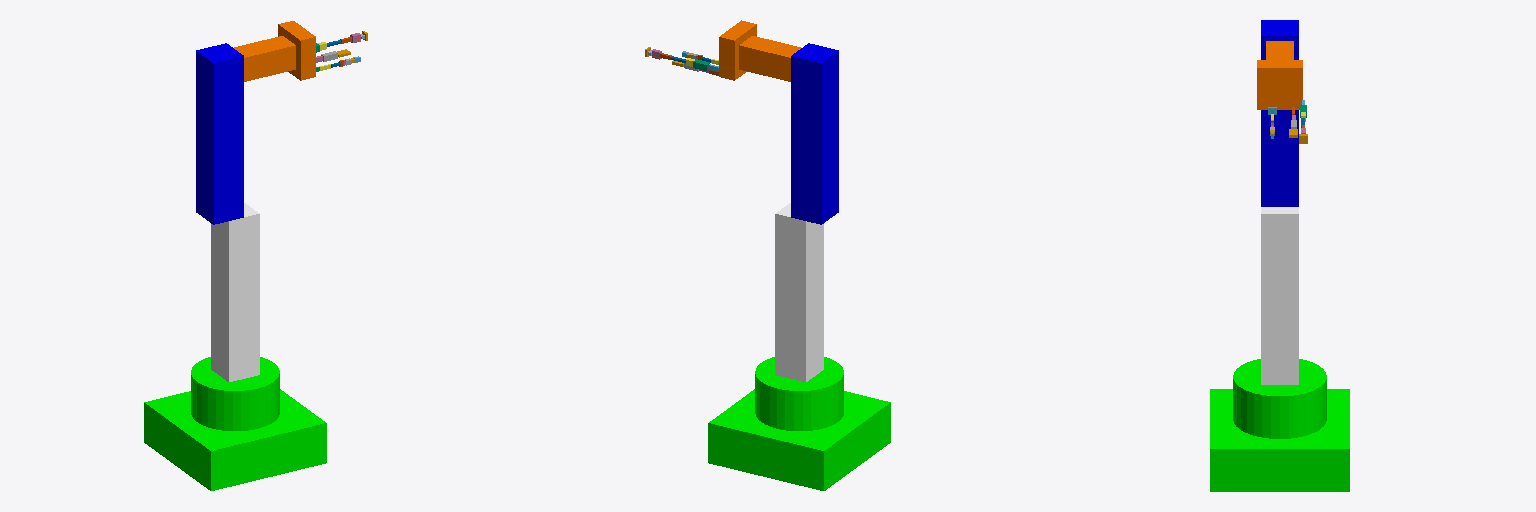
URDF robot description (robot):
<?xml version='1.0' encoding='utf-8'?>
<robot name="robot">
  <link name="base_link">
    <visual>
      <origin xyz="0 0 0.125" rpy="0 0 0" />
      <geometry>
        <box size="0.75 0.75 0.25" />
      </geometry>
      <material name="green" />
    </visual>
    <visual>
      <origin xyz="0 0 0.375" rpy="0 0 0" />
      <geometry>
        <cylinder length="0.25" radius="0.25" />
      </geometry>
      <material name="green">
        <color rgba="0 1 0 1" />
      </material>
    </visual>
    <collision>
      <geometry>
        <box size="0.75 0.75 0.5" />
      </geometry>
    </collision>
    <inertial>
      <mass value="0.5" />
      <inertia ixx="0.034" ixy="0.0" ixz="0.0" iyy="0.034" iyz="0.0" izz="0.034" />
    </inertial>
  </link>
  <link name="support_link">
    <visual>
      <origin xyz="0 0 0.5" rpy="0 0 0" />
      <geometry>
        <box size="0.2 0.2 1" />
      </geometry>
      <material name="white">
        <color rgba="1 1 1 1" />
      </material>
    </visual>
    <collision>
      <geometry>
        <box size="0.2 0.2 1" />
      </geometry>
    </collision>
    <inertial>
      <mass value="0.1" />
      <inertia ixx="0.01" ixy="0.0" ixz="0.0" iyy="0.01" iyz="0.0" izz="0.01" />
    </inertial>
  </link>
  <joint name="support_joint" type="continuous">
    <origin xyz="0 0 0.5" rpy="0 0 0" />
    <parent link="base_link" />
    <child link="support_link" />
    <axis xyz="0 0 1" />
  </joint>
  <link name="arm_link">
    <visual>
      <origin xyz="0 0 0.5" rpy="0 0 0" />
      <geometry>
        <box size="0.2 0.2 1" />
      </geometry>
      <material name="blue">
        <color rgba="0 0 1 1" />
      </material>
    </visual>
    <collision>
      <geometry>
        <box size="0.2 0.2 1" />
      </geometry>
    </collision>
    <inertial>
      <mass value="0.1" />
      <inertia ixx="0.01" ixy="0.0" ixz="0.0" iyy="0.01" iyz="0.0" izz="0.01" />
    </inertial>
  </link>
  <joint name="arm_joint" type="revolute">
    <origin xyz="-0.1 0 1" rpy="0 0 0" />
    <parent link="support_link" />
    <child link="arm_link" />
    <axis xyz="0 1 0" />
    <limit lower="-3.14" upper="3.14" effort="1.0" velocity="1.0" />
  </joint>
  <link name="wrist_link">
    <visual>
      <origin xyz="0 0 0.25" rpy="0 0 0" />
      <geometry>
        <box size="0.15 0.15 0.5" />
      </geometry>
      <material name="orange">
        <color rgba="1 0.5 0 1" />
      </material>
    </visual>
    <collision>
      <geometry>
        <box size="0.15 0.15 0.5" />
      </geometry>
    </collision>
    <inertial>
      <mass value="0.1" />
      <inertia ixx="0.01" ixy="0.0" ixz="0.0" iyy="0.01" iyz="0.0" izz="0.01" />
    </inertial>
  </link>
  <joint name="wrist_joint" type="fixed">
    <origin xyz="0 0 0.9" rpy="0 1.571 0" />
    <parent link="arm_link" />
    <child link="wrist_link" />
  </joint>
  <link name="palm_link">
    <visual>
      <origin xyz="0 0 0.05" rpy="0 0 0" />
      <geometry>
        <box size="0.25 0.25 0.1" />
      </geometry>
      <material name="orange" />
    </visual>
    <collision>
      <geometry>
        <box size="0.25 0.25 0.1" />
      </geometry>
    </collision>
    <inertial>
      <mass value="0.1" />
      <inertia ixx="0.01" ixy="0.0" ixz="0.0" iyy="0.01" iyz="0.0" izz="0.01" />
    </inertial>
  </link>
  <joint name="palm_joint" type="fixed">
    <origin xyz="0 0 0.45" rpy="0 0 0" />
    <parent link="wrist_link" />
    <child link="palm_link" />
  </joint>
  <link name="finger_link_0_0">
    <visual>
      <origin xyz="0 0 0.0445" rpy="0 0 0" />
      <geometry>
        <box size="0.038 0.016 0.089" />
      </geometry>
    </visual>
    <collision>
      <geometry>
        <box size="0.038 0.016 0.089" />
      </geometry>
    </collision>
    <inertial>
      <mass value="0.016" />
      <inertia ixx="0.0" iyy="0.0" izz="0.0" ixy="0" ixz="0" iyz="0" />
    </inertial>
  </link>
  <joint name="finger_joint_palm_link_to_finger_link_0_0" type="revolute">
    <origin xyz="0.125 0.073 0.1" rpy="0 0 0" />
    <parent link="palm_link" />
    <child link="finger_link_0_0" />
    <axis xyz="0.0 1.0 0.0" />
    <limit lower="-3.142" upper="3.142" effort="10" velocity="10" />
  </joint>
  <link name="finger_link_0_1">
    <visual>
      <origin xyz="0 0 0.034" rpy="0 0 0" />
      <geometry>
        <box size="0.027 0.02 0.068" />
      </geometry>
    </visual>
    <collision>
      <geometry>
        <box size="0.027 0.02 0.068" />
      </geometry>
    </collision>
    <inertial>
      <mass value="0.011" />
      <inertia ixx="0.0" iyy="0.0" izz="0.0" ixy="0" ixz="0" iyz="0" />
    </inertial>
  </link>
  <joint name="finger_joint_finger_link_0_0_to_finger_link_0_1" type="revolute">
    <origin xyz="0.0 0.0 0.089" rpy="0 0 0" />
    <parent link="finger_link_0_0" />
    <child link="finger_link_0_1" />
    <axis xyz="0.0 1.0 0.0" />
    <limit lower="-3.142" upper="3.142" effort="10" velocity="10" />
  </joint>
  <link name="finger_link_0_2">
    <visual>
      <origin xyz="0 0 0.0465" rpy="0 0 0" />
      <geometry>
        <box size="0.036 0.032 0.093" />
      </geometry>
    </visual>
    <collision>
      <geometry>
        <box size="0.036 0.032 0.093" />
      </geometry>
    </collision>
    <inertial>
      <mass value="0.032" />
      <inertia ixx="0.0" iyy="0.0" izz="0.0" ixy="0" ixz="0" iyz="0" />
    </inertial>
  </link>
  <joint name="finger_joint_finger_link_0_1_to_finger_link_0_2" type="revolute">
    <origin xyz="0.0 0.0 0.068" rpy="0 0 0" />
    <parent link="finger_link_0_1" />
    <child link="finger_link_0_2" />
    <axis xyz="1.0 0.0 0.0" />
    <limit lower="-3.142" upper="3.142" effort="10" velocity="10" />
  </joint>
  <link name="finger_link_0_3">
    <visual>
      <origin xyz="0 0 0.0375" rpy="0 0 0" />
      <geometry>
        <box size="0.016 0.048 0.075" />
      </geometry>
    </visual>
    <collision>
      <geometry>
        <box size="0.016 0.048 0.075" />
      </geometry>
    </collision>
    <inertial>
      <mass value="0.017" />
      <inertia ixx="0.0" iyy="0.0" izz="0.0" ixy="0" ixz="0" iyz="0" />
    </inertial>
  </link>
  <joint name="finger_joint_finger_link_0_2_to_finger_link_0_3" type="revolute">
    <origin xyz="0.0 0.0 0.093" rpy="0 0 0" />
    <parent link="finger_link_0_2" />
    <child link="finger_link_0_3" />
    <axis xyz="0.0 1.0 0.0" />
    <limit lower="-3.142" upper="3.142" effort="10" velocity="10" />
  </joint>
  <link name="finger_link_1_0">
    <visual>
      <origin xyz="0 0 0.0345" rpy="0 0 0" />
      <geometry>
        <box size="0.029 0.014 0.069" />
      </geometry>
    </visual>
    <collision>
      <geometry>
        <box size="0.029 0.014 0.069" />
      </geometry>
    </collision>
    <inertial>
      <mass value="0.008" />
      <inertia ixx="0.0" iyy="0.0" izz="0.0" ixy="0" ixz="0" iyz="0" />
    </inertial>
  </link>
  <joint name="finger_joint_palm_link_to_finger_link_1_0" type="revolute">
    <origin xyz="0.078 0.125 0.1" rpy="0 0 0" />
    <parent link="palm_link" />
    <child link="finger_link_1_0" />
    <axis xyz="-1.0 0.0 0.0" />
    <limit lower="-3.142" upper="3.142" effort="10" velocity="10" />
  </joint>
  <link name="finger_link_1_1">
    <visual>
      <origin xyz="0 0 0.045" rpy="0 0 0" />
      <geometry>
        <box size="0.039 0.04 0.09" />
      </geometry>
    </visual>
    <collision>
      <geometry>
        <box size="0.039 0.04 0.09" />
      </geometry>
    </collision>
    <inertial>
      <mass value="0.042" />
      <inertia ixx="0.0" iyy="0.0" izz="0.0" ixy="0" ixz="0" iyz="0" />
    </inertial>
  </link>
  <joint name="finger_joint_finger_link_1_0_to_finger_link_1_1" type="revolute">
    <origin xyz="0.0 0.0 0.069" rpy="0 0 0" />
    <parent link="finger_link_1_0" />
    <child link="finger_link_1_1" />
    <axis xyz="1.0 0.0 0.0" />
    <limit lower="-3.142" upper="3.142" effort="10" velocity="10" />
  </joint>
  <link name="finger_link_1_2">
    <visual>
      <origin xyz="0 0 0.025" rpy="0 0 0" />
      <geometry>
        <box size="0.036 0.027 0.05" />
      </geometry>
    </visual>
    <collision>
      <geometry>
        <box size="0.036 0.027 0.05" />
      </geometry>
    </collision>
    <inertial>
      <mass value="0.015" />
      <inertia ixx="0.0" iyy="0.0" izz="0.0" ixy="0" ixz="0" iyz="0" />
    </inertial>
  </link>
  <joint name="finger_joint_finger_link_1_1_to_finger_link_1_2" type="revolute">
    <origin xyz="0.0 0.0 0.09" rpy="0 0 0" />
    <parent link="finger_link_1_1" />
    <child link="finger_link_1_2" />
    <axis xyz="0.0 1.0 0.0" />
    <limit lower="-3.142" upper="3.142" effort="10" velocity="10" />
  </joint>
  <link name="finger_link_1_3">
    <visual>
      <origin xyz="0 0 0.0495" rpy="0 0 0" />
      <geometry>
        <box size="0.014 0.021 0.099" />
      </geometry>
    </visual>
    <collision>
      <geometry>
        <box size="0.014 0.021 0.099" />
      </geometry>
    </collision>
    <inertial>
      <mass value="0.009" />
      <inertia ixx="0.0" iyy="0.0" izz="0.0" ixy="0" ixz="0" iyz="0" />
    </inertial>
  </link>
  <joint name="finger_joint_finger_link_1_2_to_finger_link_1_3" type="revolute">
    <origin xyz="0.0 0.0 0.05" rpy="0 0 0" />
    <parent link="finger_link_1_2" />
    <child link="finger_link_1_3" />
    <axis xyz="0.0 1.0 0.0" />
    <limit lower="-3.142" upper="3.142" effort="10" velocity="10" />
  </joint>
  <link name="finger_link_1_4">
    <visual>
      <origin xyz="0 0 0.034" rpy="0 0 0" />
      <geometry>
        <box size="0.023 0.016 0.068" />
      </geometry>
    </visual>
    <collision>
      <geometry>
        <box size="0.023 0.016 0.068" />
      </geometry>
    </collision>
    <inertial>
      <mass value="0.008" />
      <inertia ixx="0.0" iyy="0.0" izz="0.0" ixy="0" ixz="0" iyz="0" />
    </inertial>
  </link>
  <joint name="finger_joint_finger_link_1_3_to_finger_link_1_4" type="revolute">
    <origin xyz="0.0 0.0 0.099" rpy="0 0 0" />
    <parent link="finger_link_1_3" />
    <child link="finger_link_1_4" />
    <axis xyz="0.0 1.0 0.0" />
    <limit lower="-3.142" upper="3.142" effort="10" velocity="10" />
  </joint>
  <link name="finger_link_1_5">
    <visual>
      <origin xyz="0 0 0.0275" rpy="0 0 0" />
      <geometry>
        <box size="0.044 0.027 0.055" />
      </geometry>
    </visual>
    <collision>
      <geometry>
        <box size="0.044 0.027 0.055" />
      </geometry>
    </collision>
    <inertial>
      <mass value="0.02" />
      <inertia ixx="0.0" iyy="0.0" izz="0.0" ixy="0" ixz="0" iyz="0" />
    </inertial>
  </link>
  <joint name="finger_joint_finger_link_1_4_to_finger_link_1_5" type="revolute">
    <origin xyz="0.0 0.0 0.068" rpy="0 0 0" />
    <parent link="finger_link_1_4" />
    <child link="finger_link_1_5" />
    <axis xyz="1.0 1.0 0.0" />
    <limit lower="-3.142" upper="3.142" effort="10" velocity="10" />
  </joint>
  <link name="finger_link_1_6">
    <visual>
      <origin xyz="0 0 0.012" rpy="0 0 0" />
      <geometry>
        <box size="0.017 0.031 0.024" />
      </geometry>
    </visual>
    <collision>
      <geometry>
        <box size="0.017 0.031 0.024" />
      </geometry>
    </collision>
    <inertial>
      <mass value="0.004" />
      <inertia ixx="0.0" iyy="0.0" izz="0.0" ixy="0" ixz="0" iyz="0" />
    </inertial>
  </link>
  <joint name="finger_joint_finger_link_1_5_to_finger_link_1_6" type="revolute">
    <origin xyz="0.0 0.0 0.055" rpy="0 0 0" />
    <parent link="finger_link_1_5" />
    <child link="finger_link_1_6" />
    <axis xyz="0.0 1.0 0.0" />
    <limit lower="-3.142" upper="3.142" effort="10" velocity="10" />
  </joint>
  <link name="finger_link_1_7">
    <visual>
      <origin xyz="0 0 0.0065" rpy="0 0 0" />
      <geometry>
        <box size="0.047 0.043 0.013" />
      </geometry>
    </visual>
    <collision>
      <geometry>
        <box size="0.047 0.043 0.013" />
      </geometry>
    </collision>
    <inertial>
      <mass value="0.008" />
      <inertia ixx="0.0" iyy="0.0" izz="0.0" ixy="0" ixz="0" iyz="0" />
    </inertial>
  </link>
  <joint name="finger_joint_finger_link_1_6_to_finger_link_1_7" type="revolute">
    <origin xyz="0.0 0.0 0.024" rpy="0 0 0" />
    <parent link="finger_link_1_6" />
    <child link="finger_link_1_7" />
    <axis xyz="0.0 1.0 0.0" />
    <limit lower="-3.142" upper="3.142" effort="10" velocity="10" />
  </joint>
  <link name="finger_link_2_0">
    <visual>
      <origin xyz="0 0 0.009" rpy="0 0 0" />
      <geometry>
        <box size="0.042 0.044 0.018" />
      </geometry>
    </visual>
    <collision>
      <geometry>
        <box size="0.042 0.044 0.018" />
      </geometry>
    </collision>
    <inertial>
      <mass value="0.01" />
      <inertia ixx="0.0" iyy="0.0" izz="0.0" ixy="0" ixz="0" iyz="0" />
    </inertial>
  </link>
  <joint name="finger_joint_palm_link_to_finger_link_2_0" type="revolute">
    <origin xyz="0.125 -0.04 0.1" rpy="0 0 0" />
    <parent link="palm_link" />
    <child link="finger_link_2_0" />
    <axis xyz="0.0 1.0 0.0" />
    <limit lower="-3.142" upper="3.142" effort="10" velocity="10" />
  </joint>
  <link name="finger_link_2_1">
    <visual>
      <origin xyz="0 0 0.0265" rpy="0 0 0" />
      <geometry>
        <box size="0.024 0.012 0.053" />
      </geometry>
    </visual>
    <collision>
      <geometry>
        <box size="0.024 0.012 0.053" />
      </geometry>
    </collision>
    <inertial>
      <mass value="0.005" />
      <inertia ixx="0.0" iyy="0.0" izz="0.0" ixy="0" ixz="0" iyz="0" />
    </inertial>
  </link>
  <joint name="finger_joint_finger_link_2_0_to_finger_link_2_1" type="revolute">
    <origin xyz="0.0 0.0 0.018" rpy="0 0 0" />
    <parent link="finger_link_2_0" />
    <child link="finger_link_2_1" />
    <axis xyz="0.0 1.0 0.0" />
    <limit lower="-3.142" upper="3.142" effort="10" velocity="10" />
  </joint>
  <link name="finger_link_2_2">
    <visual>
      <origin xyz="0 0 0.0375" rpy="0 0 0" />
      <geometry>
        <box size="0.023 0.012 0.075" />
      </geometry>
    </visual>
    <collision>
      <geometry>
        <box size="0.023 0.012 0.075" />
      </geometry>
    </collision>
    <inertial>
      <mass value="0.006" />
      <inertia ixx="0.0" iyy="0.0" izz="0.0" ixy="0" ixz="0" iyz="0" />
    </inertial>
  </link>
  <joint name="finger_joint_finger_link_2_1_to_finger_link_2_2" type="revolute">
    <origin xyz="0.0 0.0 0.053" rpy="0 0 0" />
    <parent link="finger_link_2_1" />
    <child link="finger_link_2_2" />
    <axis xyz="1.0 0.0 0.0" />
    <limit lower="-3.142" upper="3.142" effort="10" velocity="10" />
  </joint>
  <link name="finger_link_2_3">
    <visual>
      <origin xyz="0 0 0.0285" rpy="0 0 0" />
      <geometry>
        <box size="0.013 0.019 0.057" />
      </geometry>
    </visual>
    <collision>
      <geometry>
        <box size="0.013 0.019 0.057" />
      </geometry>
    </collision>
    <inertial>
      <mass value="0.004" />
      <inertia ixx="0.0" iyy="0.0" izz="0.0" ixy="0" ixz="0" iyz="0" />
    </inertial>
  </link>
  <joint name="finger_joint_finger_link_2_2_to_finger_link_2_3" type="revolute">
    <origin xyz="0.0 0.0 0.075" rpy="0 0 0" />
    <parent link="finger_link_2_2" />
    <child link="finger_link_2_3" />
    <axis xyz="0.0 1.0 0.0" />
    <limit lower="-3.142" upper="3.142" effort="10" velocity="10" />
  </joint>
  <link name="finger_link_2_4">
    <visual>
      <origin xyz="0 0 0.013" rpy="0 0 0" />
      <geometry>
        <box size="0.035 0.013 0.026" />
      </geometry>
    </visual>
    <collision>
      <geometry>
        <box size="0.035 0.013 0.026" />
      </geometry>
    </collision>
    <inertial>
      <mass value="0.004" />
      <inertia ixx="0.0" iyy="0.0" izz="0.0" ixy="0" ixz="0" iyz="0" />
    </inertial>
  </link>
  <joint name="finger_joint_finger_link_2_3_to_finger_link_2_4" type="revolute">
    <origin xyz="0.0 0.0 0.057" rpy="0 0 0" />
    <parent link="finger_link_2_3" />
    <child link="finger_link_2_4" />
    <axis xyz="0.0 1.0 0.0" />
    <limit lower="-3.142" upper="3.142" effort="10" velocity="10" />
  </joint>
  <link name="finger_link_2_5">
    <visual>
      <origin xyz="0 0 0.0055" rpy="0 0 0" />
      <geometry>
        <box size="0.026 0.015 0.011" />
      </geometry>
    </visual>
    <collision>
      <geometry>
        <box size="0.026 0.015 0.011" />
      </geometry>
    </collision>
    <inertial>
      <mass value="0.001" />
      <inertia ixx="0.0" iyy="0.0" izz="0.0" ixy="0" ixz="0" iyz="0" />
    </inertial>
  </link>
  <joint name="finger_joint_finger_link_2_4_to_finger_link_2_5" type="revolute">
    <origin xyz="0.0 0.0 0.026" rpy="0 0 0" />
    <parent link="finger_link_2_4" />
    <child link="finger_link_2_5" />
    <axis xyz="1.0 1.0 0.0" />
    <limit lower="-3.142" upper="3.142" effort="10" velocity="10" />
  </joint>
  <link name="finger_link_2_6">
    <visual>
      <origin xyz="0 0 0.0165" rpy="0 0 0" />
      <geometry>
        <box size="0.027 0.024 0.033" />
      </geometry>
    </visual>
    <collision>
      <geometry>
        <box size="0.027 0.024 0.033" />
      </geometry>
    </collision>
    <inertial>
      <mass value="0.006" />
      <inertia ixx="0.0" iyy="0.0" izz="0.0" ixy="0" ixz="0" iyz="0" />
    </inertial>
  </link>
  <joint name="finger_joint_finger_link_2_5_to_finger_link_2_6" type="revolute">
    <origin xyz="0.0 0.0 0.011" rpy="0 0 0" />
    <parent link="finger_link_2_5" />
    <child link="finger_link_2_6" />
    <axis xyz="0.0 1.0 0.0" />
    <limit lower="-3.142" upper="3.142" effort="10" velocity="10" />
  </joint>
  <link name="finger_link_2_7">
    <visual>
      <origin xyz="0 0 0.012" rpy="0 0 0" />
      <geometry>
        <box size="0.019 0.025 0.024" />
      </geometry>
    </visual>
    <collision>
      <geometry>
        <box size="0.019 0.025 0.024" />
      </geometry>
    </collision>
    <inertial>
      <mass value="0.003" />
      <inertia ixx="0.0" iyy="0.0" izz="0.0" ixy="0" ixz="0" iyz="0" />
    </inertial>
  </link>
  <joint name="finger_joint_finger_link_2_6_to_finger_link_2_7" type="revolute">
    <origin xyz="0.0 0.0 0.033" rpy="0 0 0" />
    <parent link="finger_link_2_6" />
    <child link="finger_link_2_7" />
    <axis xyz="0.0 1.0 0.0" />
    <limit lower="-3.142" upper="3.142" effort="10" velocity="10" />
  </joint>
  <link name="finger_link_2_8">
    <visual>
      <origin xyz="0 0 0.018" rpy="0 0 0" />
      <geometry>
        <box size="0.027 0.021 0.036" />
      </geometry>
    </visual>
    <collision>
      <geometry>
        <box size="0.027 0.021 0.036" />
      </geometry>
    </collision>
    <inertial>
      <mass value="0.006" />
      <inertia ixx="0.0" iyy="0.0" izz="0.0" ixy="0" ixz="0" iyz="0" />
    </inertial>
  </link>
  <joint name="finger_joint_finger_link_2_7_to_finger_link_2_8" type="revolute">
    <origin xyz="0.0 0.0 0.024" rpy="0 0 0" />
    <parent link="finger_link_2_7" />
    <child link="finger_link_2_8" />
    <axis xyz="1.0 0.0 0.0" />
    <limit lower="-3.142" upper="3.142" effort="10" velocity="10" />
  </joint>
</robot>

--- What the picture shows (computed from the rendered views, not written in the file) ---
3 views of the same robot in one strip: view 1: azimuth 30°, elevation 25°; view 2: azimuth 150°, elevation 25°; view 3: azimuth 270°, elevation 25° (orthographic).
Model robot with 26 links and 25 joints (22 revolute, 1 continuous, 2 fixed), rooted at base_link, posed every joint at zero.
Visible links, largest first — view 1: base_link, arm_link, support_link, wrist_link, palm_link; view 2: base_link, arm_link, support_link, wrist_link, palm_link; view 3: base_link, support_link, arm_link, palm_link, wrist_link.
Link boxes in pixels (box(x1,y1,x2,y2)): base_link: box(144, 357, 326, 490); arm_link: box(196, 43, 243, 224); support_link: box(211, 203, 259, 381); wrist_link: box(234, 36, 295, 81); palm_link: box(278, 21, 315, 80); base_link: box(708, 357, 890, 490); arm_link: box(791, 43, 838, 224); support_link: box(775, 203, 823, 381); wrist_link: box(739, 36, 800, 81); palm_link: box(719, 20, 756, 80); base_link: box(1210, 359, 1349, 491); support_link: box(1261, 207, 1298, 384); arm_link: box(1261, 20, 1298, 206); palm_link: box(1257, 60, 1302, 109); wrist_link: box(1266, 41, 1293, 59).
Bounding box of the posed robot: 1.29 × 0.75 × 2.52 m (x, y, z).
Geometry: primitives only (box / cylinder / sphere), no mesh files.